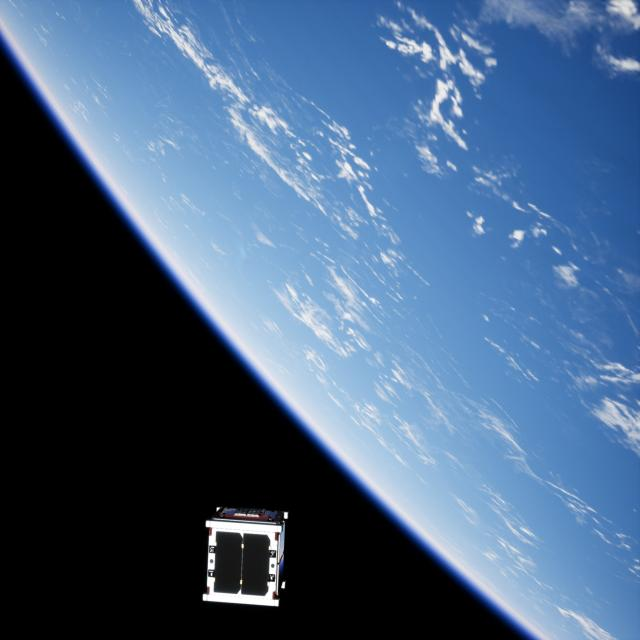satellite: (201, 502, 289, 608)
